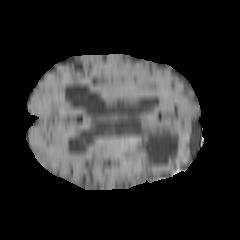glioma: (122, 96, 186, 173)
